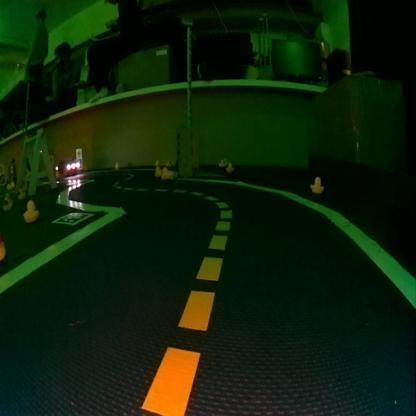Duckie: (22, 200, 37, 221), (310, 176, 322, 191), (226, 162, 232, 171), (155, 166, 160, 174), (113, 161, 118, 169), (162, 168, 166, 177), (168, 160, 172, 166)
QR code: (56, 212, 92, 224)
